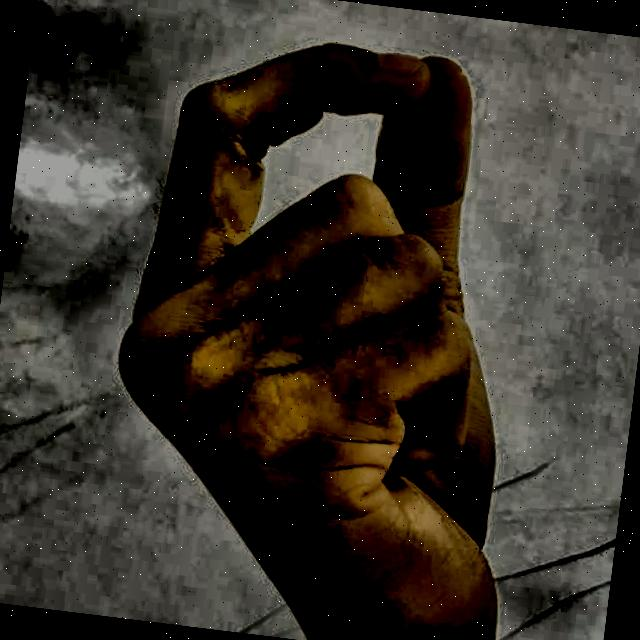Gha: (58, 3, 600, 640)
